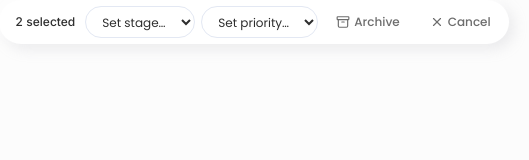
DealBulkBar › says what was refused in the server's words, and keeps those selected
The width and height of the screenshot is (529, 160).
Select "High" in the dropdown named "Set priority" at (260, 22), box [201,6,318,38]
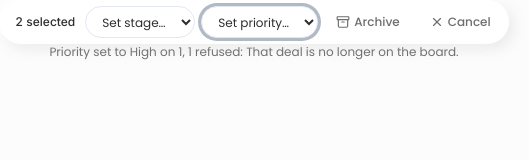
Check: the message reads "Priority set to High on 1, 1 refused: That deal is no longer on the board.", box [49,43,459,60]
